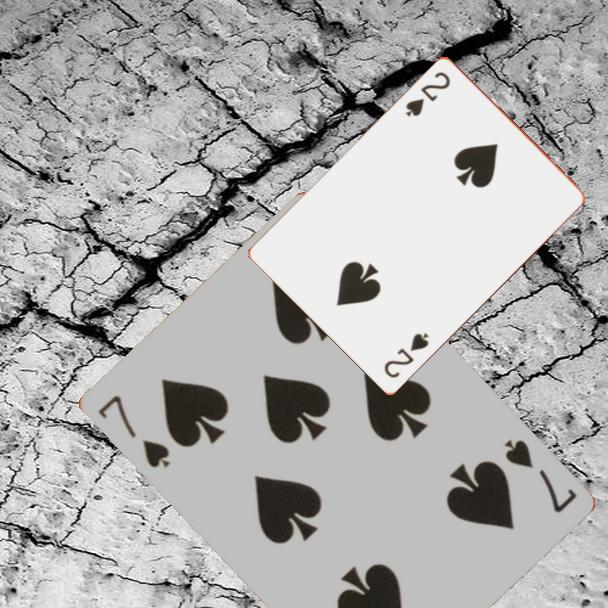s02: (380, 328, 432, 380), (402, 68, 453, 119)
s07: (500, 435, 580, 516), (93, 391, 173, 471)
